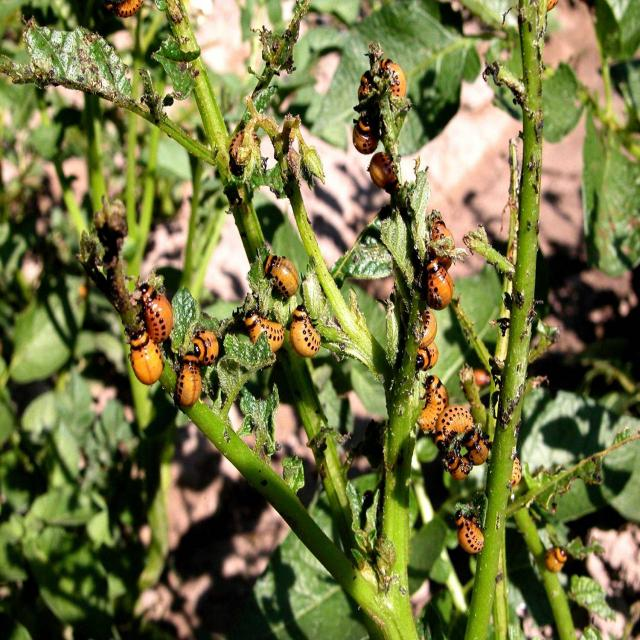ShuCaiHuaBanChong-Larva-: (119, 320, 169, 395), (283, 298, 331, 364), (254, 244, 307, 302), (134, 278, 174, 344), (241, 310, 291, 357), (420, 252, 456, 313), (452, 506, 494, 558), (223, 124, 266, 174), (172, 354, 205, 414), (434, 404, 479, 448), (374, 48, 408, 106), (416, 374, 450, 431), (406, 308, 453, 347), (350, 112, 385, 158), (368, 152, 404, 195), (465, 422, 494, 471), (439, 448, 475, 486), (430, 210, 460, 254), (193, 326, 221, 372), (411, 336, 445, 370), (545, 542, 571, 576)
